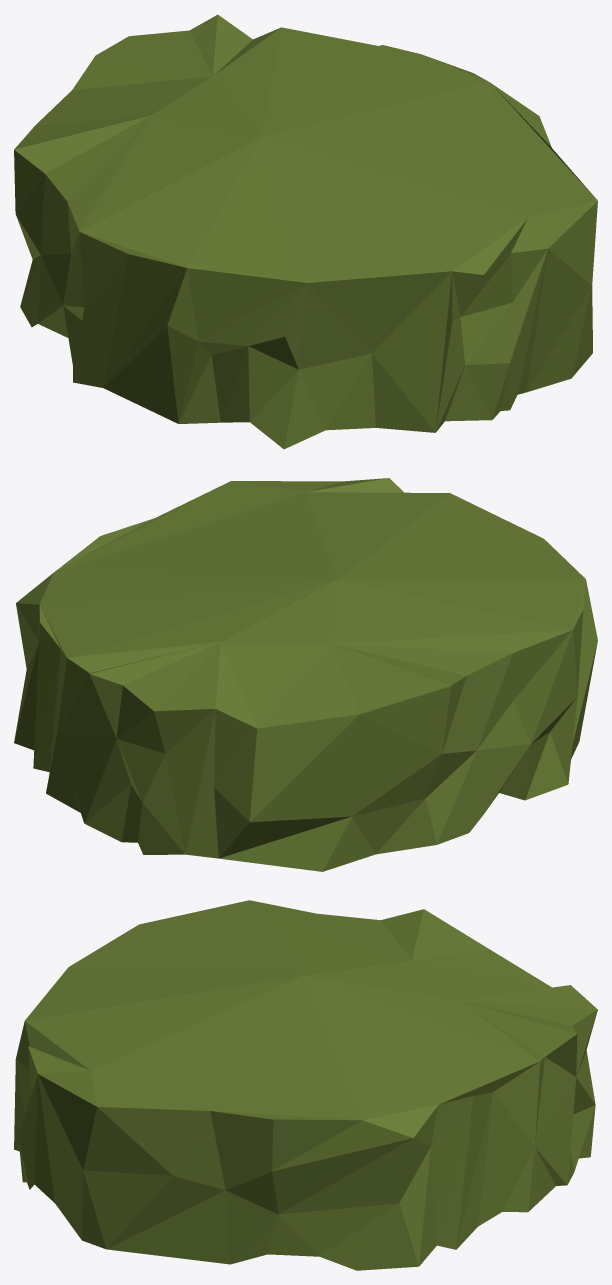
File: tofe's_lowPoly_terrain_plain01.fbx
3 renders of one model, top to bottom at view 1: azimuth 30°, elevation 25°; view 2: azimuth 150°, elevation 25°; view 3: azimuth 270°, elevation 25°, orthographic. The views are drawn at different scales.
Parts seen in each view (by area): view 1: tofe's_lowPoly_terrain_plain01; view 2: tofe's_lowPoly_terrain_plain01; view 3: tofe's_lowPoly_terrain_plain01.
Boxes of the visible parts, left/top/right/bottom form: tofe's_lowPoly_terrain_plain01: left=14, top=14, right=597, bottom=449; tofe's_lowPoly_terrain_plain01: left=14, top=478, right=597, bottom=871; tofe's_lowPoly_terrain_plain01: left=14, top=900, right=597, bottom=1270.
Bounding box in the file's own units: 66.22 × 25.51 × 74.45.
